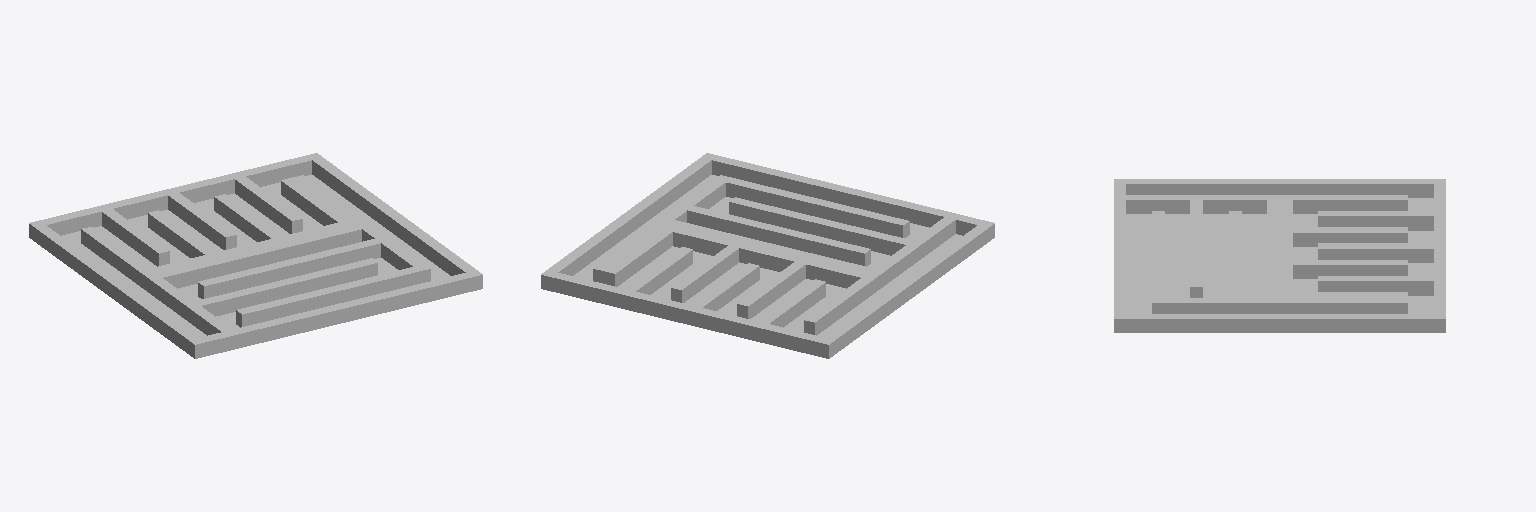
The model's file is maze.obj.
The picture shows the model from 3 angles: view 1: azimuth 30°, elevation 25°; view 2: azimuth 150°, elevation 25°; view 3: azimuth 270°, elevation 25°; orthographic projection.
Visible parts, largest first — view 1: Plane; view 2: Plane; view 3: Plane.
Boxes of the visible parts, x1=… form: Plane: x1=29, y1=153, x2=482, y2=358; Plane: x1=541, y1=153, x2=994, y2=358; Plane: x1=1114, y1=179, x2=1445, y2=332.
Bounding box in the file's own units: 42.83 × 2.02 × 42.83.